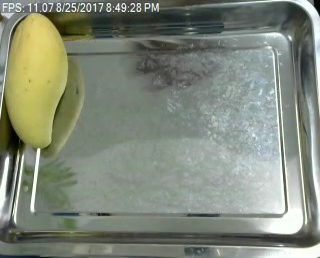Mango: (2, 8, 72, 149)
